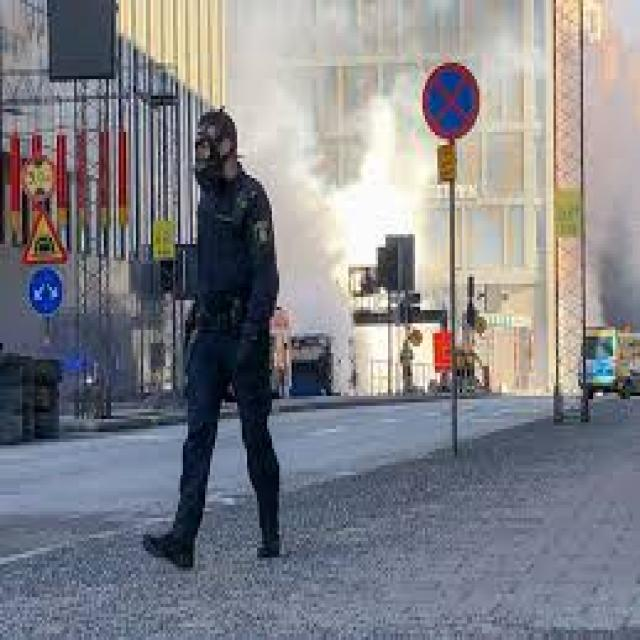smoke: (309, 93, 450, 314)
